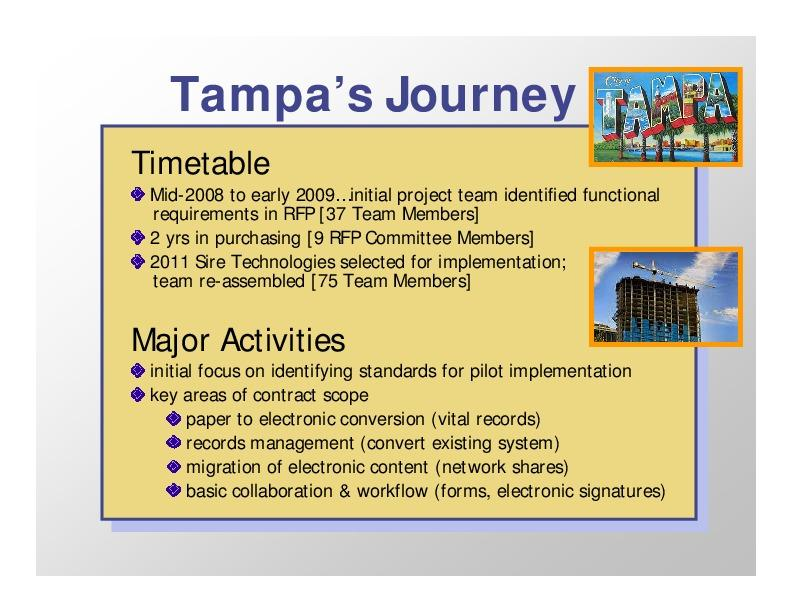paragraph: (119, 358, 687, 508), (121, 178, 670, 297)
subtitle: (127, 321, 362, 362), (127, 142, 281, 183)
title: (161, 65, 585, 127)
